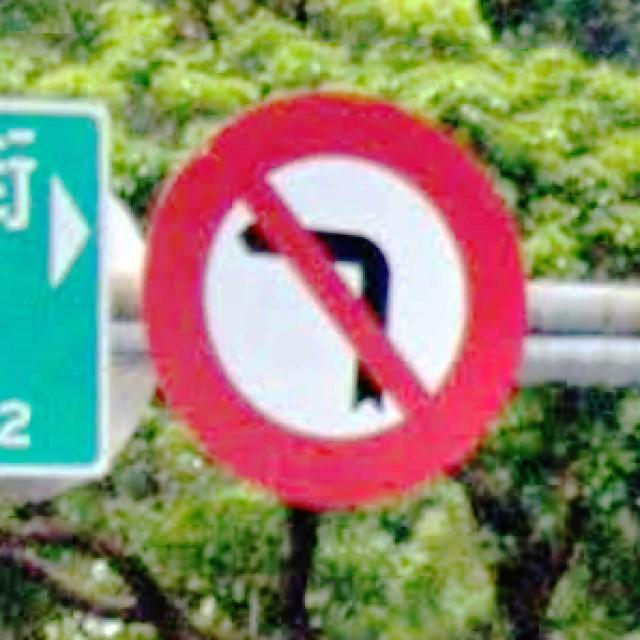noturnleft: (135, 84, 530, 512)
